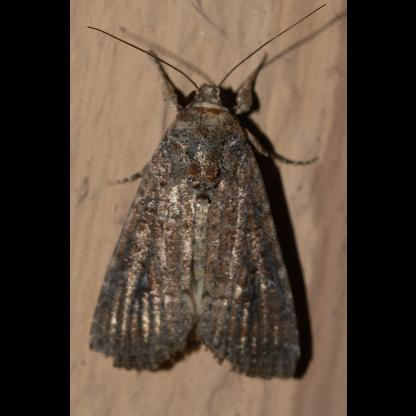Fall Armyworm Moth: (83, 1, 329, 384)
